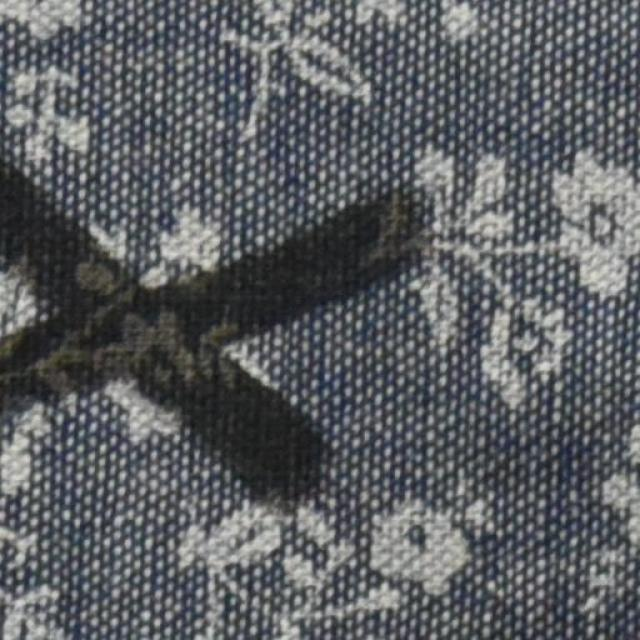Stain: (0, 155, 450, 507)
